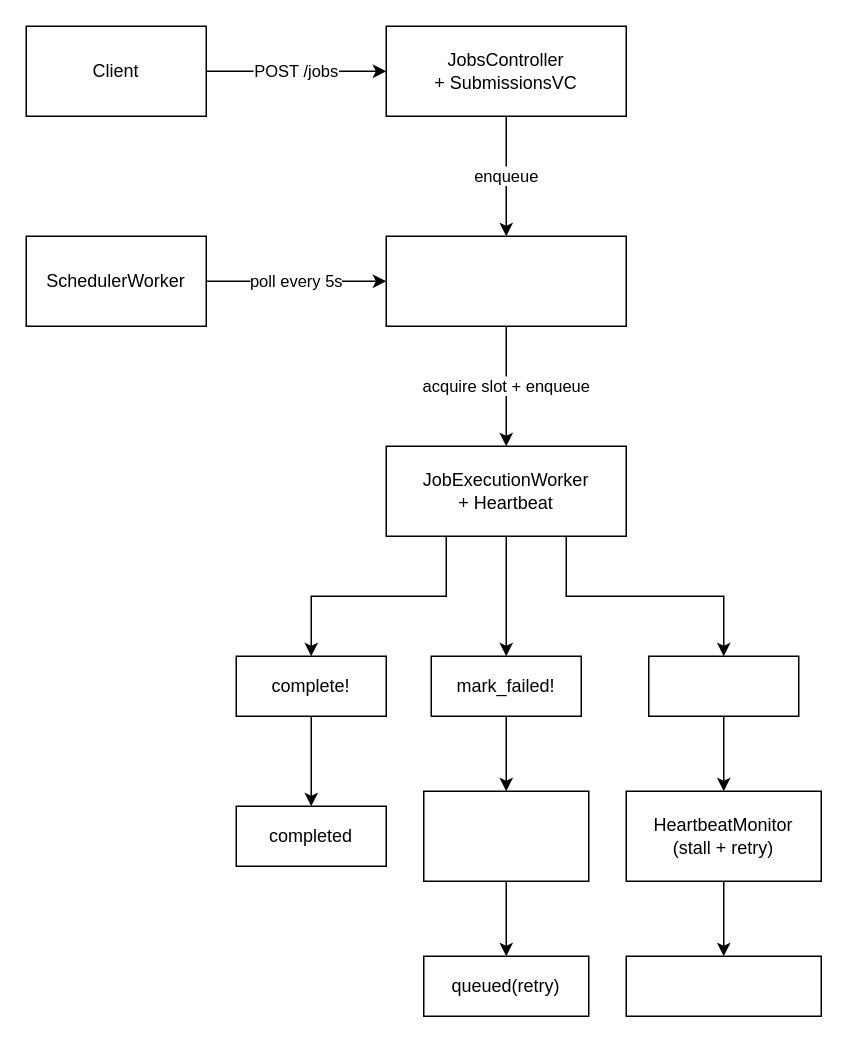
The diagram is 848 pixels wide and 1043 high, and some of its shapes have lost their labels. Each missing label, with the centre of its shape:
"(SIGKILL)" belongs at [723,685].
"RetryService (backoff)" belongs at [505,835].
"SchedulerService (Fair Queuing)" belongs at [505,280].
"stalled_queued" belongs at [723,985].
